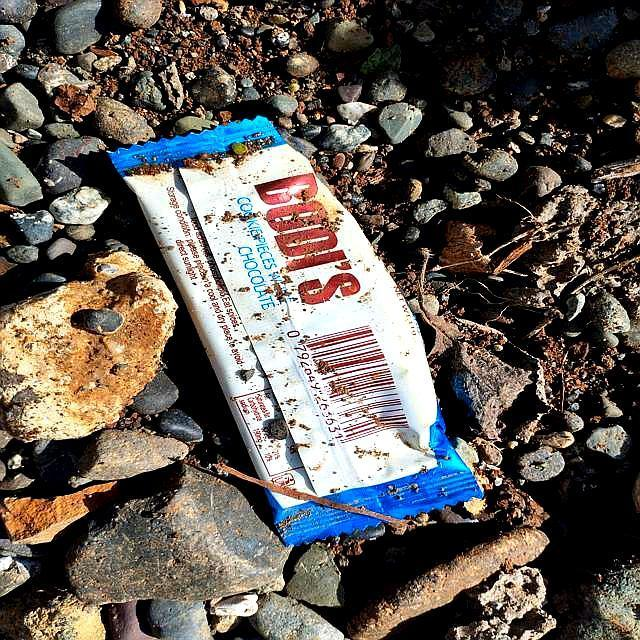Non-biodegradable: (105, 113, 484, 548)
